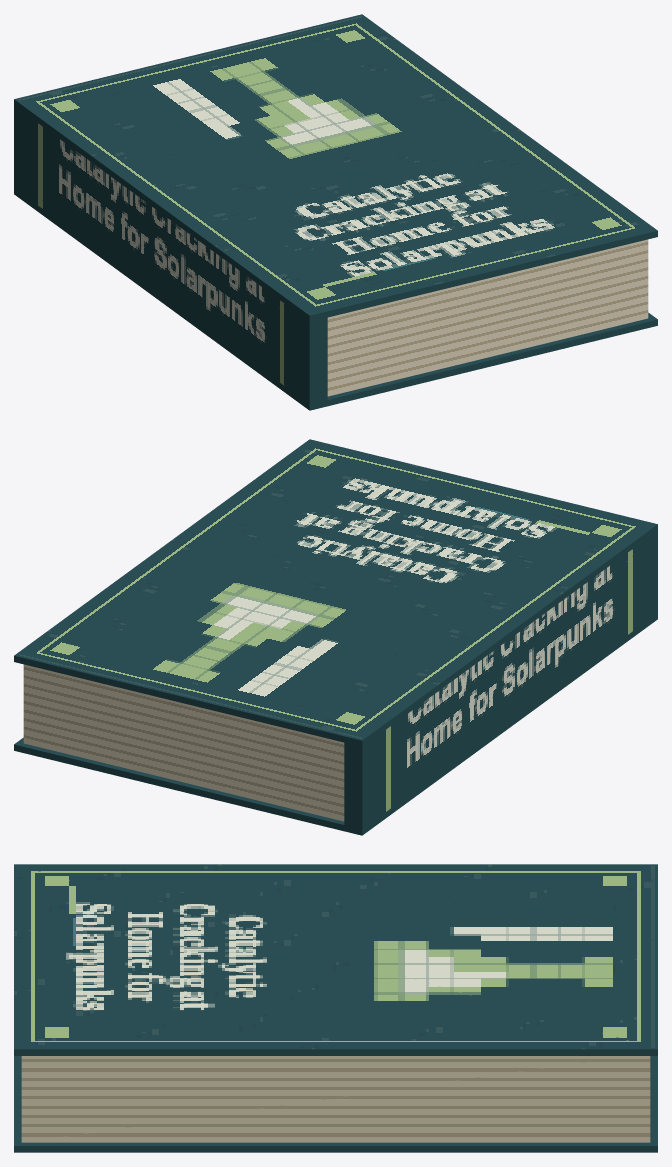
The model's file is catalytic_cracking_handbook.glb.
3 renders of one model, top to bottom at view 1: azimuth 30°, elevation 25°; view 2: azimuth 150°, elevation 25°; view 3: azimuth 270°, elevation 25°, orthographic. The views are drawn at different scales.
Parts seen in each view (by area): view 1: block_front cover, block_spine, block_page block, block_back cover; view 2: block_front cover, block_spine, block_page block, block_back cover; view 3: block_front cover, block_page block, block_back cover.
Part boxes in pixels (x1,y1,x2,y2): block_front cover: (14,14,657,321); block_spine: (14,106,327,404); block_page block: (327,239,648,396); block_back cover: (14,188,657,410); block_front cover: (14,439,657,746); block_spine: (344,531,657,829); block_page block: (23,664,344,821); block_back cover: (14,613,657,835); block_front cover: (14,864,657,1055); block_page block: (21,1056,650,1142); block_back cover: (14,1056,657,1152).
Size of the model in its own units: 0.1734 by 0.0452 by 0.255.
1 material, 1 textured.
